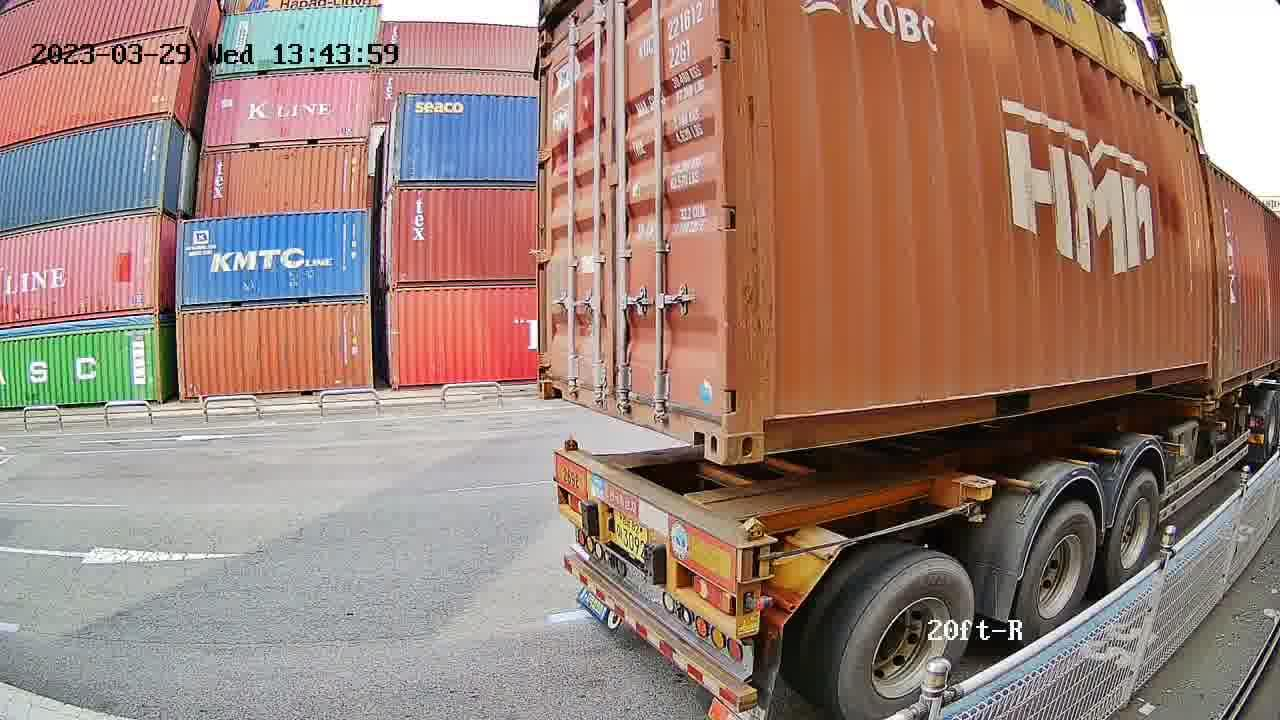Chassis: (552, 447, 776, 593)
Cone: (737, 516, 765, 581), (563, 437, 579, 450)
Hole_L: (725, 397, 795, 466), (537, 362, 569, 401)
Hole_R: (683, 395, 725, 464)
Tire: (837, 552, 975, 719), (1015, 501, 1097, 646), (1111, 471, 1162, 590)
